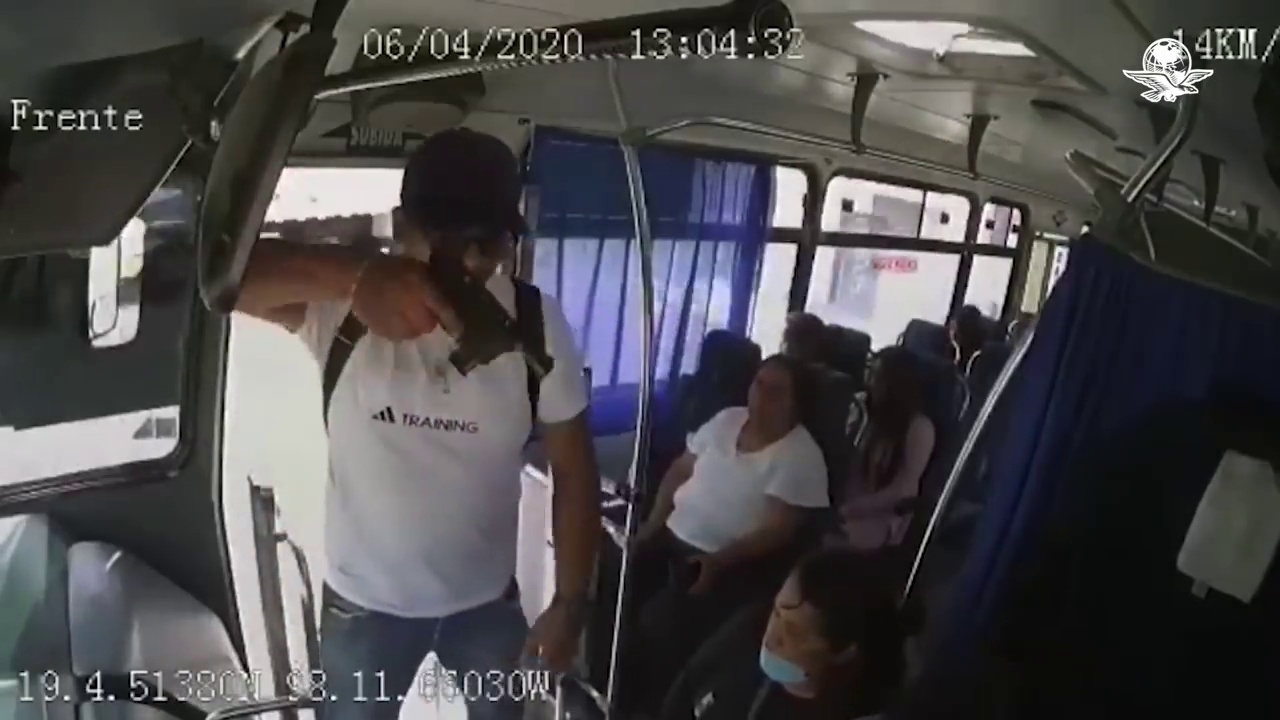pistol: (424, 248, 557, 379)
